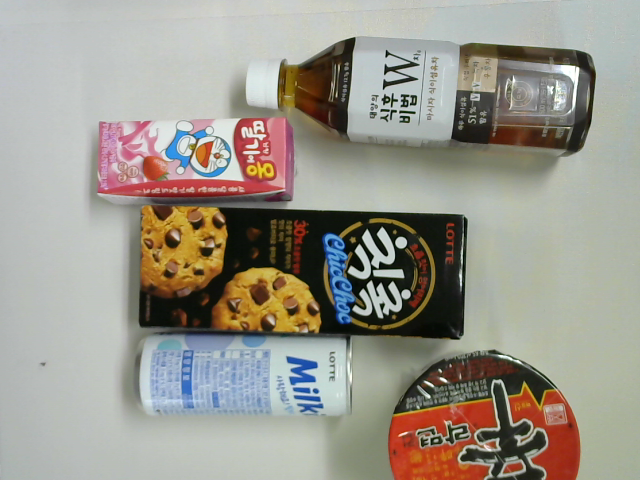Chicchok_Original_2400: (138, 208, 470, 339)
Milkies_250ml: (140, 335, 355, 418)
Post-meal_recipe_W_tea_500ml: (244, 39, 597, 157)
Sinramen_small: (388, 348, 582, 480)
Strawberry_E_Mong: (96, 118, 296, 202)
